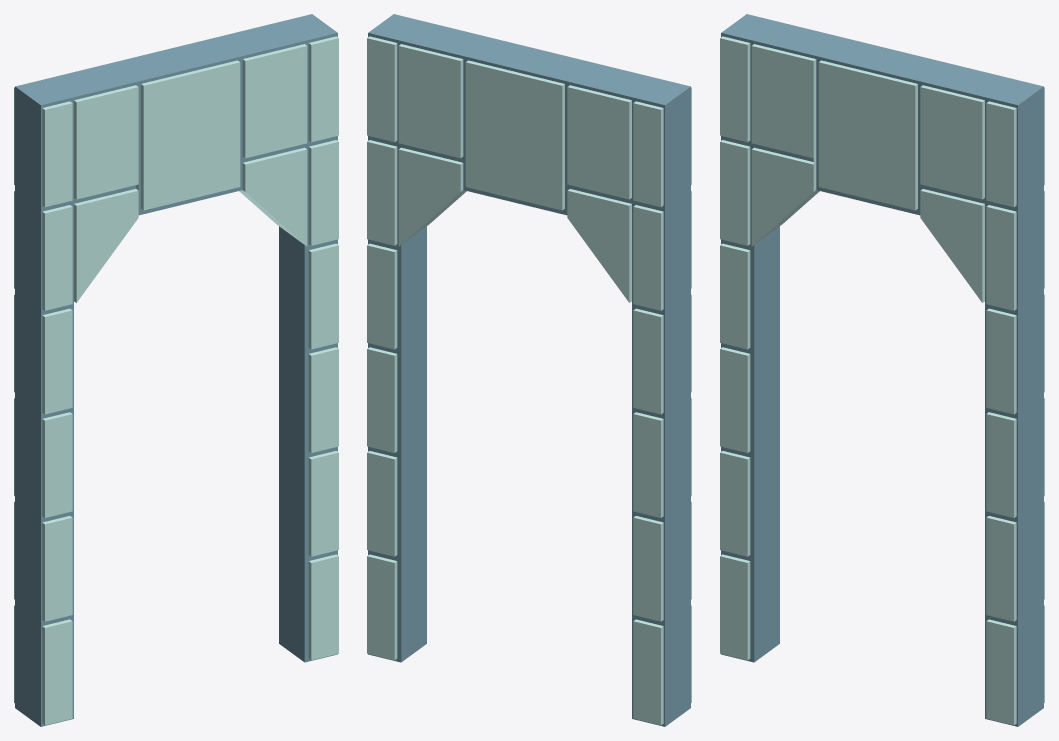
Rendered from BathroomTilesDoorframe.glb.
3 views of the same model, side by side, from view 1: azimuth 30°, elevation 25°; view 2: azimuth 150°, elevation 25°; view 3: azimuth 330°, elevation 25° (orthographic).
Parts seen in each view (by area): view 1: wall_bathroomTiles_door; view 2: wall_bathroomTiles_door; view 3: wall_bathroomTiles_door.
Part boxes in pixels (x1,y1,x2,y2): wall_bathroomTiles_door: (14, 14, 338, 726); wall_bathroomTiles_door: (367, 14, 691, 726); wall_bathroomTiles_door: (720, 14, 1044, 726).
Size of what is drawn, in the model's own units: 2 by 4 by 0.36.
Materials: 1 (1 with a texture image).
